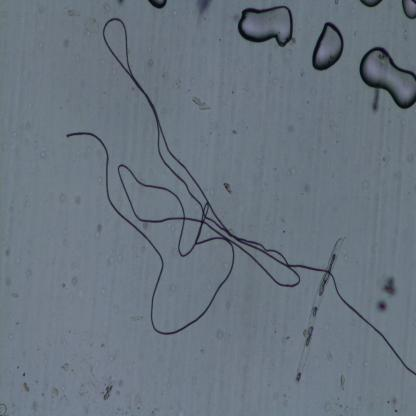Air bubble: (358, 43, 416, 110), (236, 5, 296, 50), (399, 0, 416, 21), (360, 0, 384, 9), (147, 0, 169, 9)
Background material: (310, 20, 345, 71), (83, 365, 121, 404), (113, 391, 146, 416), (379, 274, 400, 297), (49, 385, 70, 406), (100, 250, 123, 269), (197, 0, 213, 26), (385, 390, 399, 416), (26, 397, 44, 416), (83, 16, 100, 36), (192, 96, 212, 111), (371, 88, 381, 112), (102, 0, 115, 17), (224, 178, 235, 195), (0, 398, 9, 416), (286, 166, 299, 178), (129, 315, 144, 325), (339, 372, 346, 393), (68, 7, 81, 18), (283, 48, 293, 62), (94, 224, 104, 238), (377, 302, 389, 313), (172, 77, 183, 89), (68, 273, 78, 286), (230, 125, 240, 138), (81, 402, 90, 416), (286, 122, 296, 134), (215, 328, 224, 341), (40, 145, 48, 159), (322, 401, 332, 412), (149, 405, 159, 416), (284, 333, 292, 346), (74, 194, 84, 204), (62, 36, 69, 50), (58, 192, 66, 204), (110, 64, 118, 75), (62, 361, 69, 373), (5, 274, 11, 288), (361, 180, 370, 189), (170, 8, 178, 18), (14, 256, 22, 266), (324, 354, 334, 362), (406, 151, 414, 161), (282, 395, 288, 408), (222, 260, 229, 271), (147, 58, 155, 67), (10, 290, 19, 298), (6, 332, 14, 341), (169, 283, 177, 292), (141, 221, 149, 230), (21, 382, 28, 392), (356, 392, 363, 402), (38, 4, 46, 12), (198, 348, 206, 356), (116, 0, 125, 7), (96, 174, 102, 183), (26, 269, 32, 278), (305, 184, 311, 192), (199, 135, 205, 142), (5, 250, 12, 256), (333, 0, 340, 5), (282, 229, 287, 236), (382, 155, 387, 162), (191, 379, 196, 386), (21, 372, 26, 378), (364, 361, 369, 367), (61, 283, 66, 288)
Cellulose filter fibre: (296, 233, 346, 385)
Microfibre: (66, 16, 416, 376)
